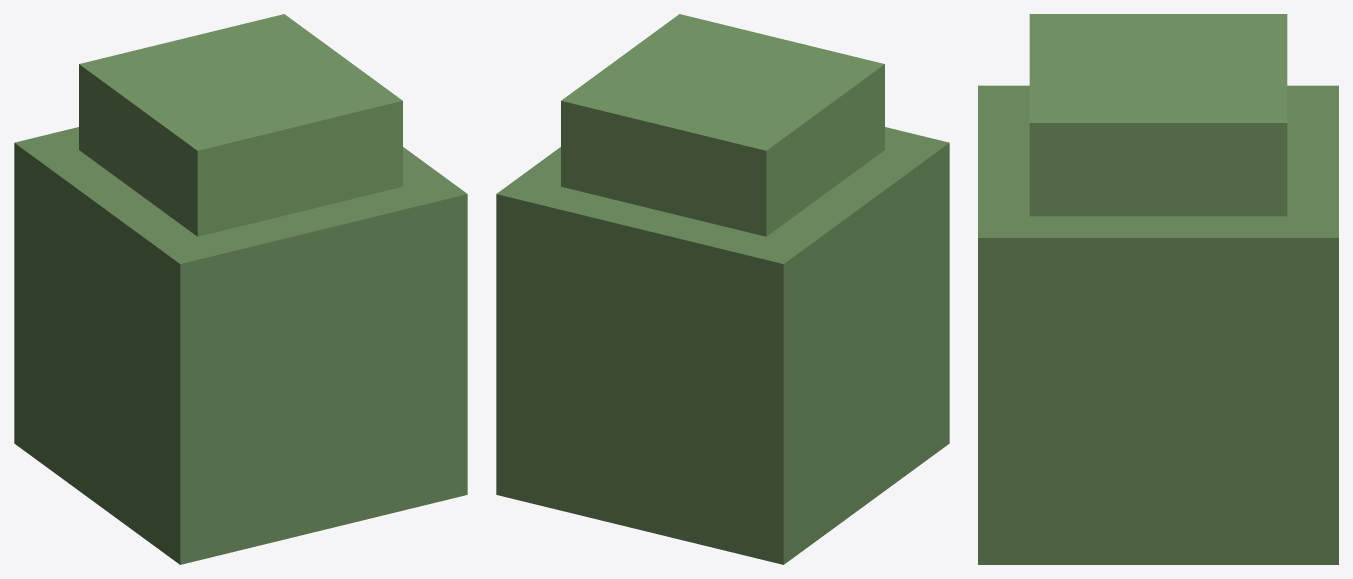
Rendered from frambuesa_02.glb.
3 renders of one model, left to right at view 1: azimuth 30°, elevation 25°; view 2: azimuth 150°, elevation 25°; view 3: azimuth 270°, elevation 25°, orthographic. The views are drawn at different scales.
Parts seen in each view (by area): view 1: frambuesa_02; view 2: frambuesa_02; view 3: frambuesa_02.
Boxes of the visible parts, box(x1,y1,x2,y2) form: frambuesa_02: box(14, 14, 467, 564); frambuesa_02: box(496, 14, 949, 564); frambuesa_02: box(978, 14, 1338, 564).
Size of the model in its own units: 0.7 by 0.9 by 0.7.
